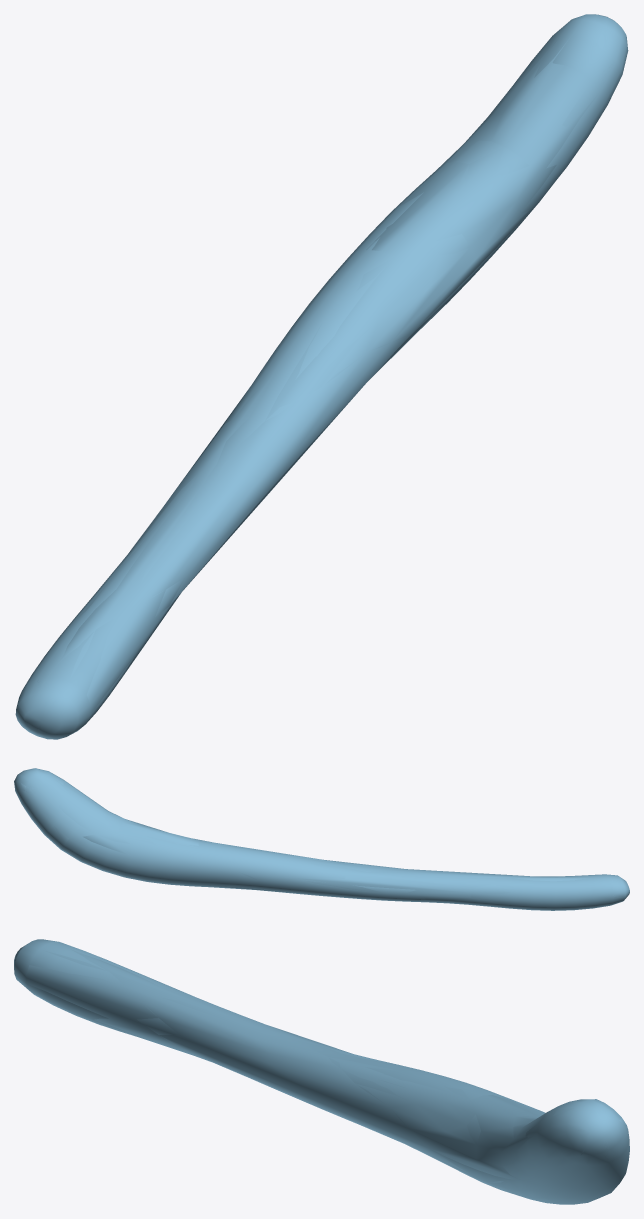
3 renders of one model, top to bottom at view 1: azimuth 30°, elevation 25°; view 2: azimuth 150°, elevation 25°; view 3: azimuth 270°, elevation 25°, orthographic. The views are drawn at different scales.
Visible parts, largest first — view 1: CC L8 low, CC L8; view 2: CC L8, CC L8 low; view 3: CC L8 low, CC L8.
Boxes of the visible parts, <box> form: CC L8 low: <box>37,15,623,733</box>; CC L8: <box>15,14,628,739</box>; CC L8: <box>14,768,629,910</box>; CC L8 low: <box>21,769,622,906</box>; CC L8 low: <box>17,941,626,1199</box>; CC L8: <box>14,939,629,1204</box>.
Bounding box in the file's own units: 18.82 × 5.69 × 12.42.
